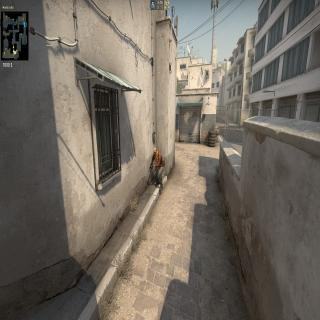T-Head: (154, 147, 158, 157)
